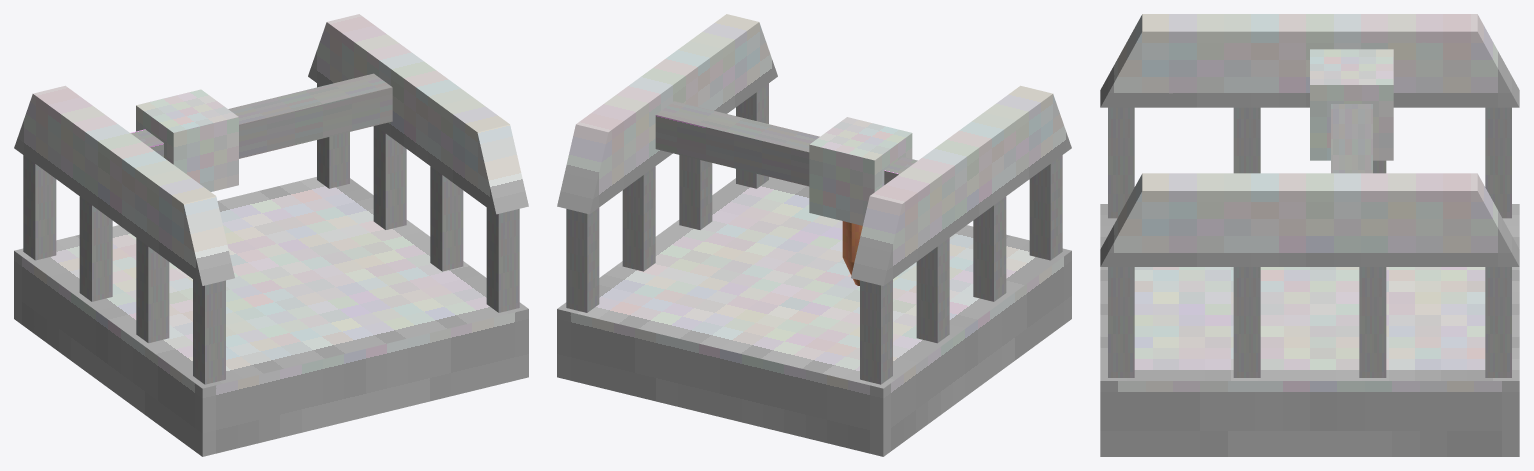
File: inscriber.obj
3 renders of one model, left to right at view 1: azimuth 30°, elevation 25°; view 2: azimuth 150°, elevation 25°; view 3: azimuth 270°, elevation 25°, orthographic. The views are drawn at different scales.
Parts seen in each view (by area): view 1: g1_group, g0, g2_group; view 2: g1_group, g0, g2_group; view 3: g1_group, g2_group, g0.
Boxes of the visible parts, <box> form: g1_group: <box>14,14,528,456</box>; g0: <box>130,73,392,158</box>; g2_group: <box>136,89,238,191</box>; g1_group: <box>557,14,1071,456</box>; g0: <box>655,101,917,186</box>; g2_group: <box>809,117,912,285</box>; g1_group: <box>1100,14,1519,456</box>; g2_group: <box>1310,49,1393,160</box>; g0: <box>1331,104,1372,173</box>.
Bounding box in the file's own units: 1 × 0.7 × 1.
